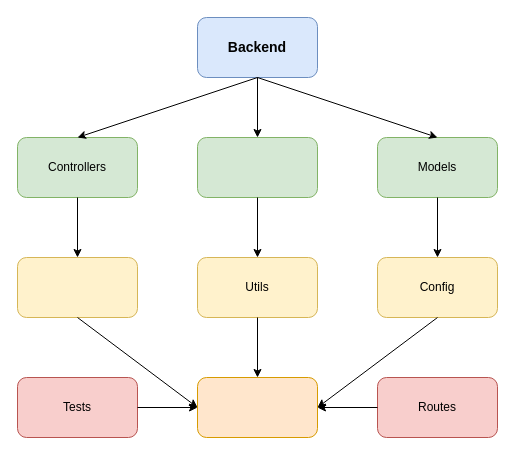
Image size: 515x455. Some labels were removed from this diagram. The shapes that lost their labels are listed below. From the top down, each one's centre as x and y in pixels, then its label:
At point (257, 167): "Services".
At point (77, 287): "Middleware".
At point (257, 407): "Database".
